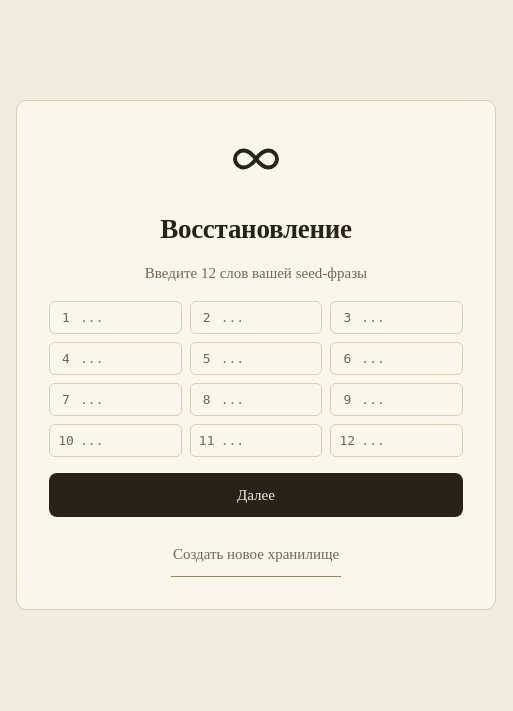
Scenario: Restore — nothing races the restore › everything is locked while the restore runs — including «Назад» and the reset
Type "alpha bravo charlie delta echo foxtrot golf hotel india juliet kilo lima" into the field named "Слово 1 из 12" at (126, 318), box left=80, top=306, right=173, bottom=329
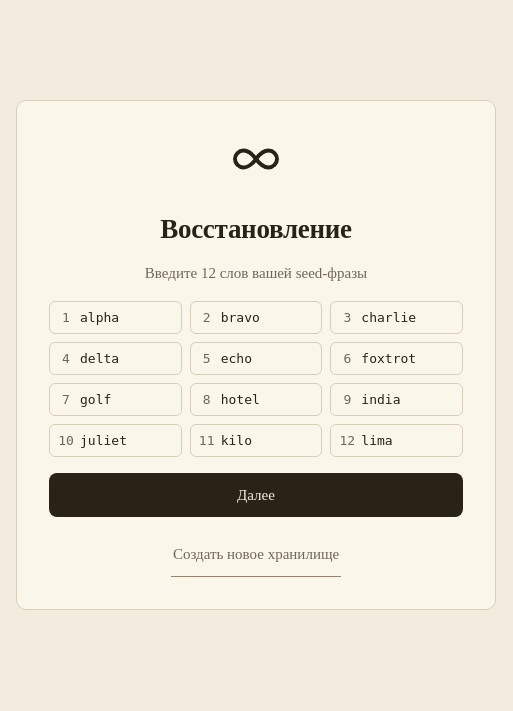
Click the button "Далее" at (256, 495), box left=49, top=473, right=463, bottom=517
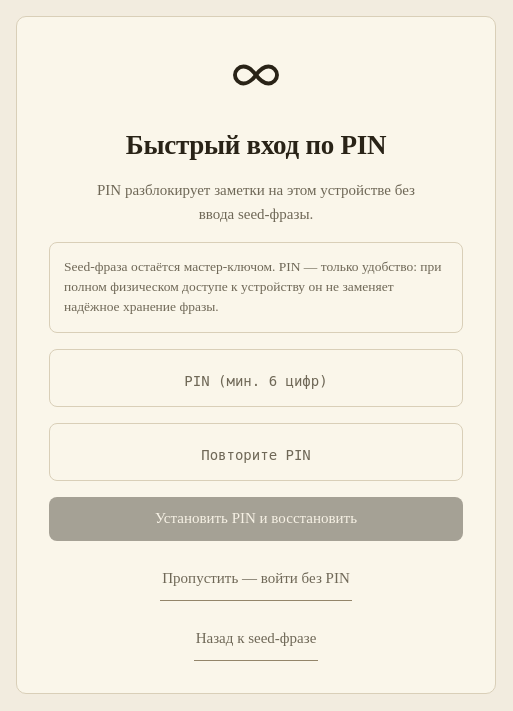
Check: the heading "Быстрый вход по PIN" is shown, box left=126, top=129, right=386, bottom=162
Type "123456" into the password field with placeholder "PIN (мин. 6 цифр)" at (256, 378), box left=49, top=349, right=463, bottom=407
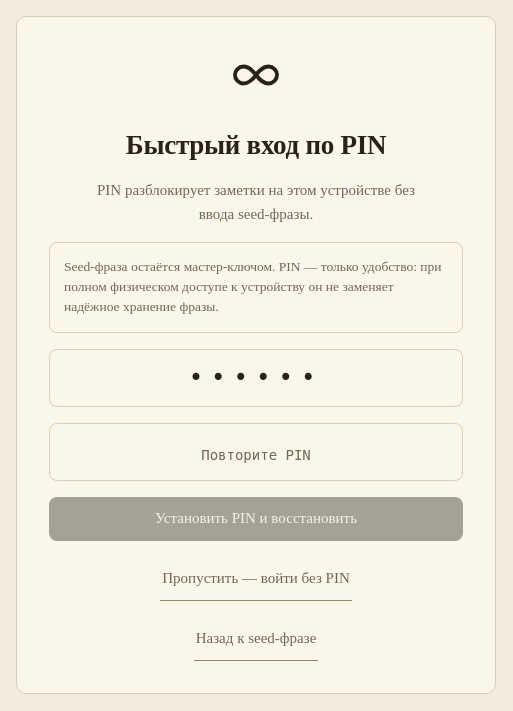
Type "123456" into the password field with placeholder "Повторите PIN" at (256, 452), box left=49, top=423, right=463, bottom=481
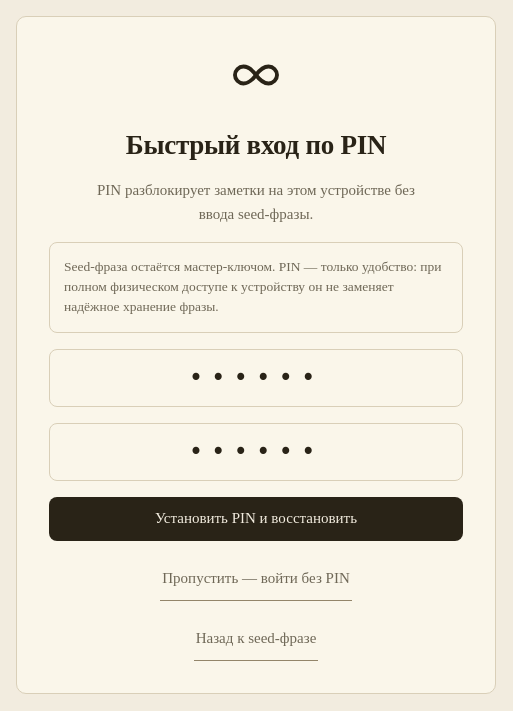
Click the button "Установить PIN и восстановить" at (256, 519), box left=49, top=497, right=463, bottom=541
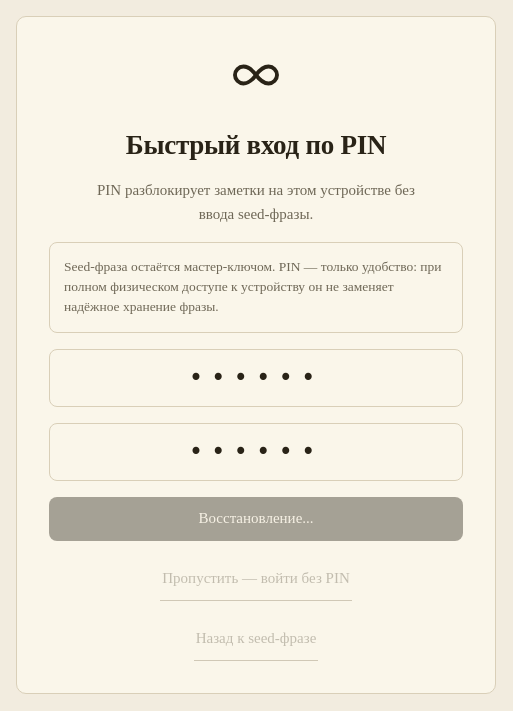
Check: the 1st password field with placeholder "PIN (мин. 6 цифр)" is disabled, box left=49, top=349, right=463, bottom=407
Check: the button "Пропустить — войти без PIN" is disabled, box left=160, top=557, right=352, bottom=601
Check: the button "Назад к seed-фразе" is disabled, box left=194, top=617, right=318, bottom=661
